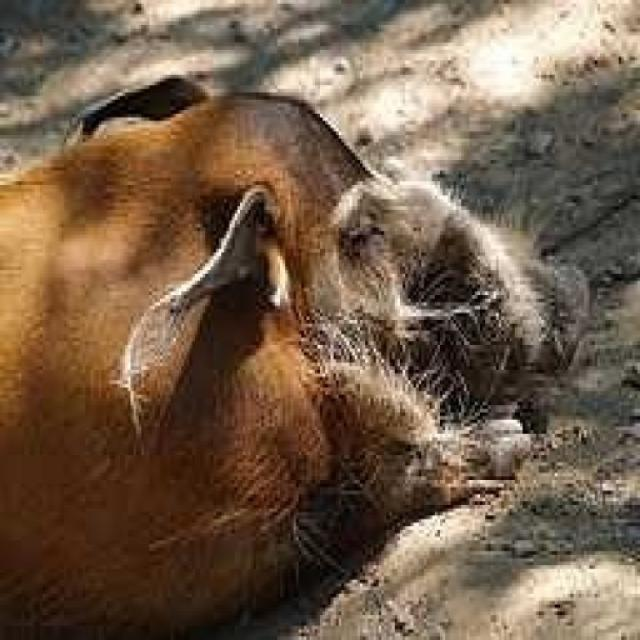pig: (0, 26, 573, 637)
